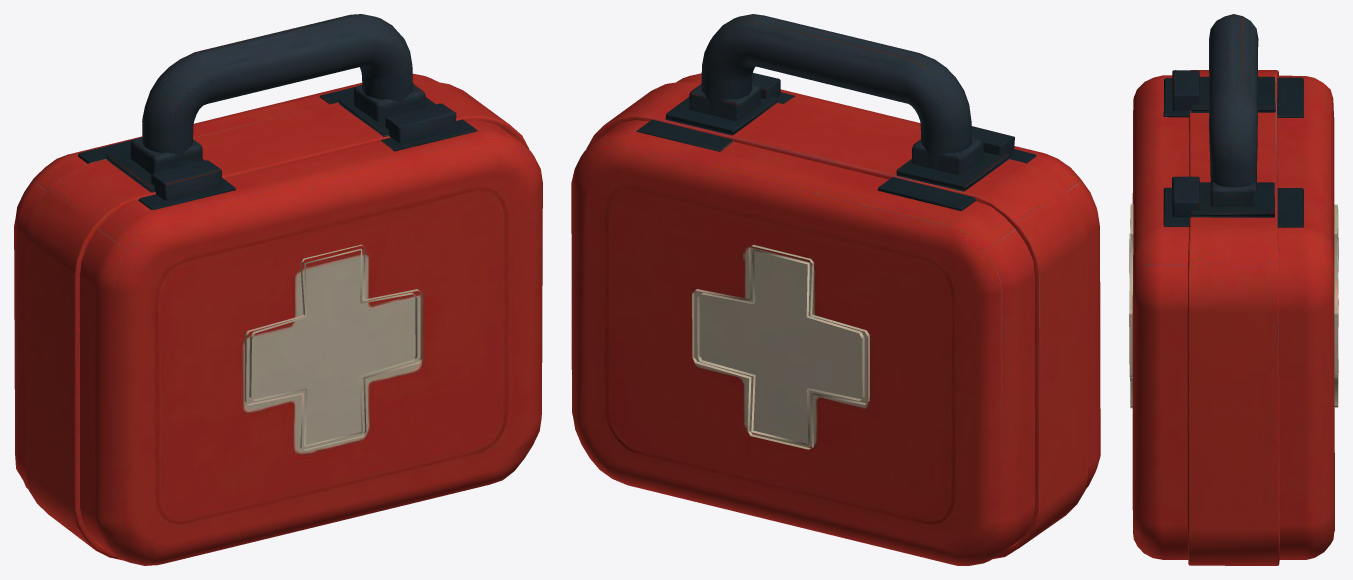
Rendered from medkit.glb.
The picture shows the model from 3 angles, left to right: view 1: azimuth 30°, elevation 25°; view 2: azimuth 150°, elevation 25°; view 3: azimuth 270°, elevation 25°; orthographic projection. The views are drawn at different scales.
Visible parts, largest first — view 1: medkit; view 2: medkit; view 3: medkit.
Part boxes in pixels (x1=…): medkit: x1=14, y1=14, x2=542, y2=565; medkit: x1=571, y1=14, x2=1100, y2=565; medkit: x1=1129, y1=14, x2=1338, y2=565.
Size of the model in its own units: 0.3 by 0.2927 by 0.1283.
Materials: 1 (1 with a texture image).
